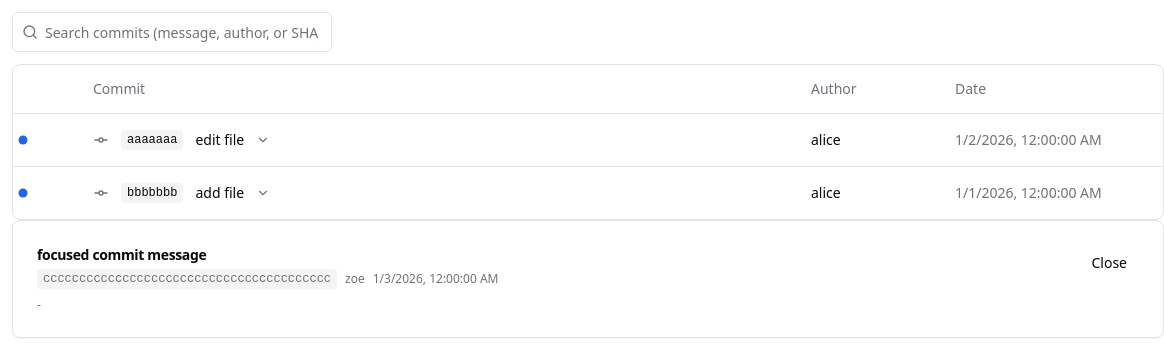
Test case: CommitsTab blame deep-link › 关闭按钮收起聚焦的提交
Expected: the text "focused commit message" is shown, [37,244,206,264]
Click the button "Close" at (1109, 262), box [1080,244,1139,280]
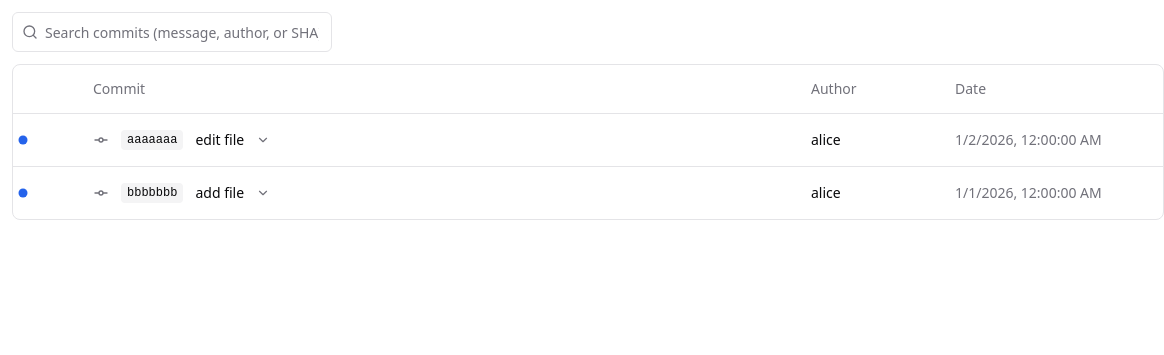
Expected: the text "focused commit message" is gone
